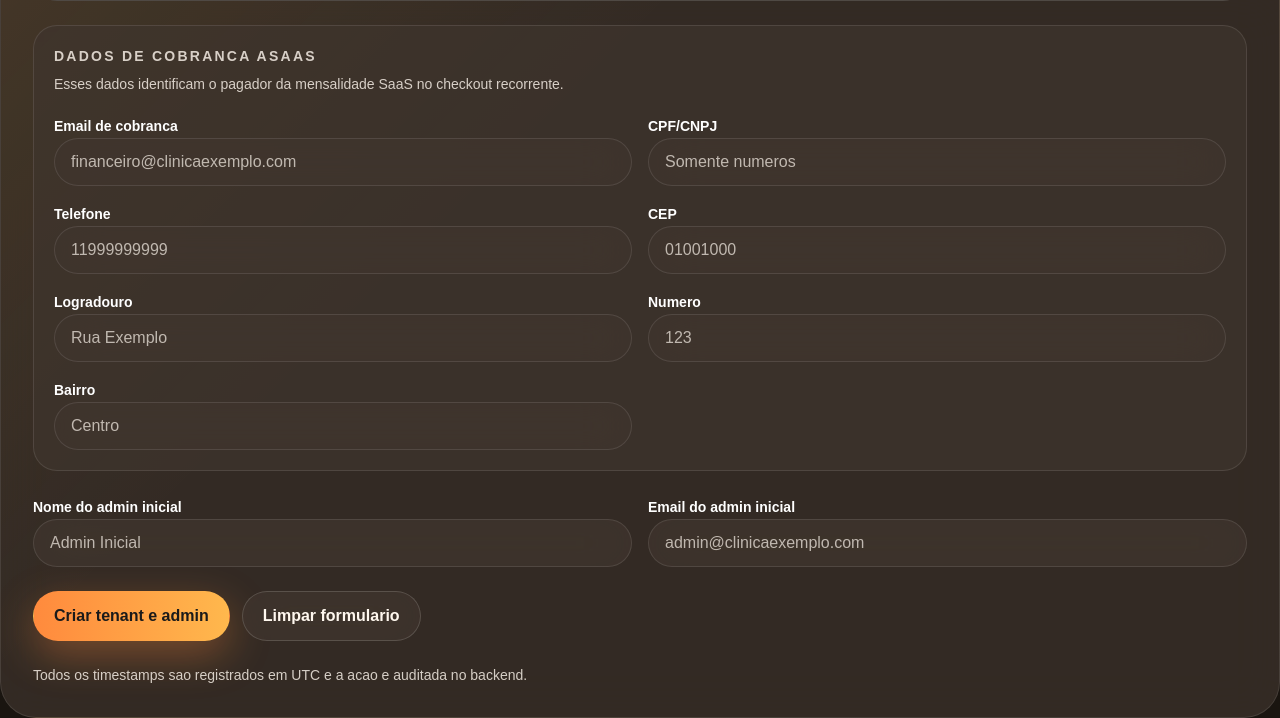
it: SystemAdminTenantProvisionPage › exibe erros de validacao local
This screenshot has width=1280, height=718.
(page scrolled)
What coordinates should you click on to do the following:
click the button "Criar tenant e admin"
I would click on:
 (131, 616)
Its box is [33,591,230,641].
(page scrolled)
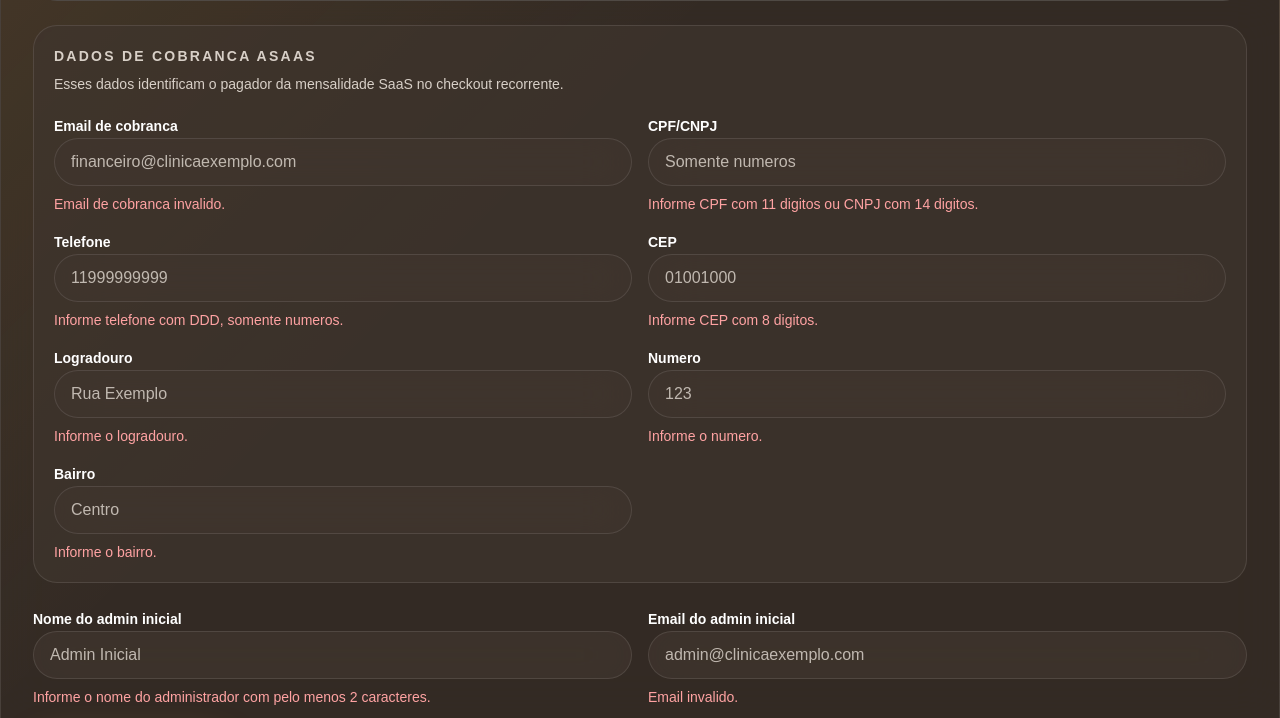
Expected: the text "Informe o nome do administrador com pelo menos 2 caracteres." is shown, [33,689,431,705]
Expected: the text "Email invalido." is shown, [648,689,738,705]
